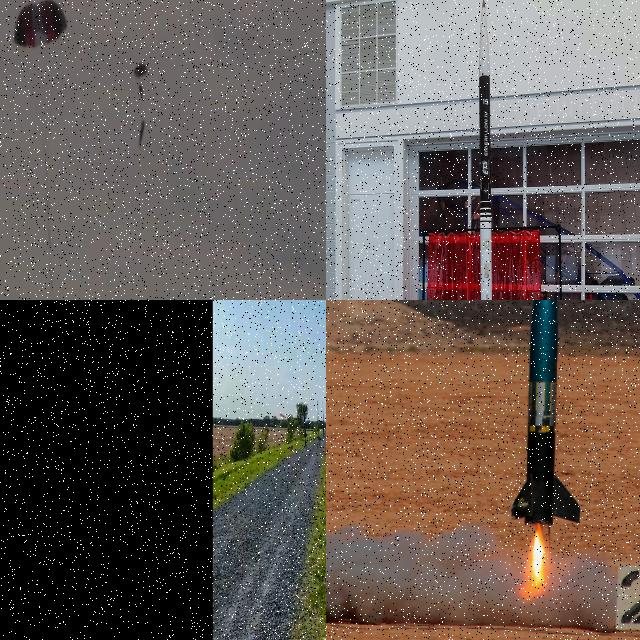Rocket: (509, 300, 581, 526), (478, 0, 492, 300), (303, 414, 307, 439)
